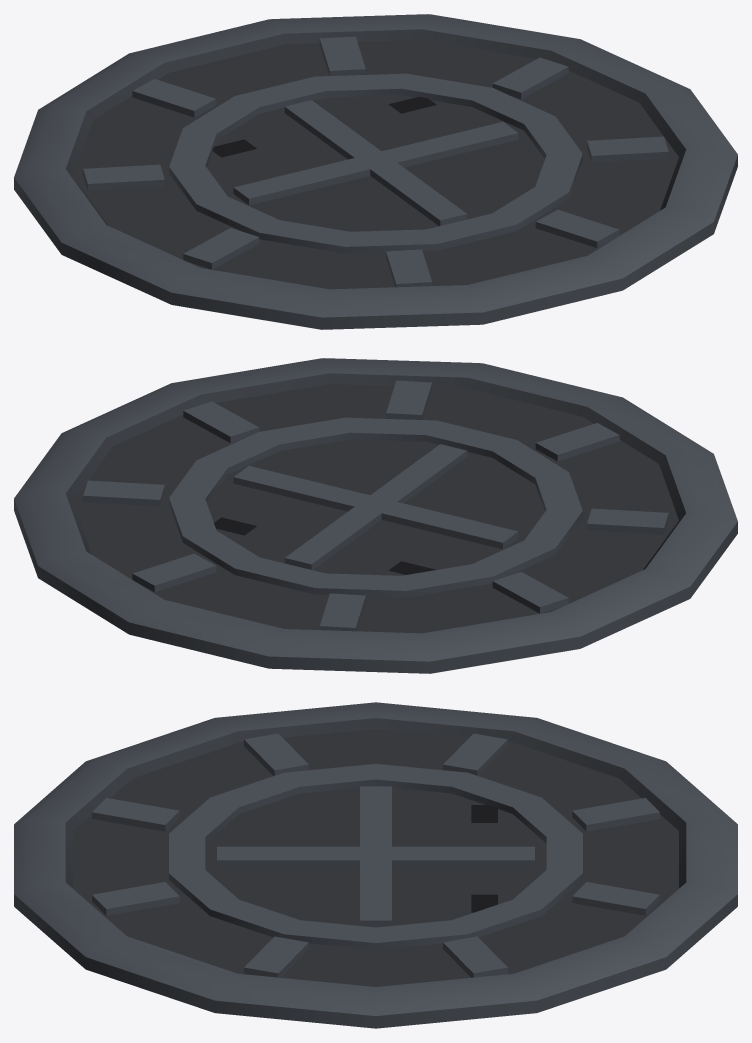
The model's file is prop_manhole.glb.
3 views of the same model, one above another, from view 1: azimuth 30°, elevation 25°; view 2: azimuth 150°, elevation 25°; view 3: azimuth 270°, elevation 25° (orthographic). The views are drawn at different scales.
Visible parts, largest first — view 1: prop_manhole__mesh; view 2: prop_manhole__mesh; view 3: prop_manhole__mesh.
Part boxes in pixels (box(x1,y1,x2,y2)): prop_manhole__mesh: box(14, 14, 737, 329); prop_manhole__mesh: box(14, 358, 737, 673); prop_manhole__mesh: box(14, 702, 737, 1028).
Size of the model in its own units: 0.7 by 0.02 by 0.6824.
1 material, 1 textured.
